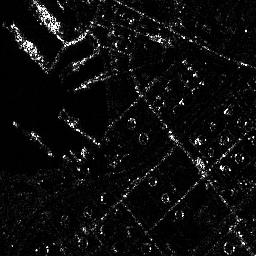ship: (8, 22, 44, 64), (32, 1, 66, 32)
